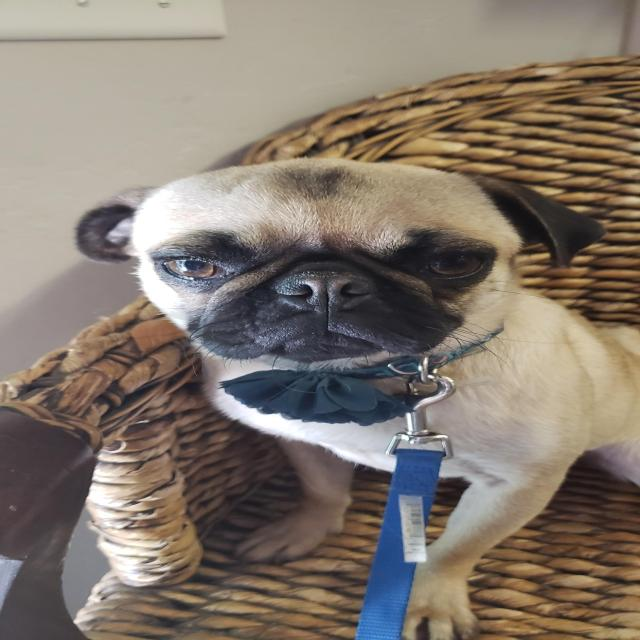pug_dog: (72, 150, 605, 374)
